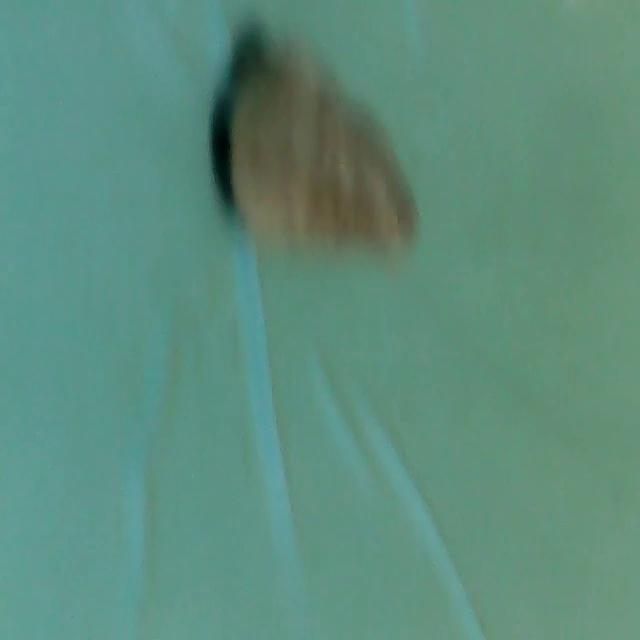rock: (219, 31, 441, 261)
